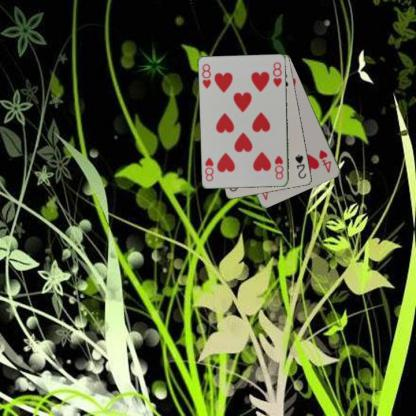2s: (292, 152, 308, 180)
4h: (316, 147, 332, 174)
8h: (199, 61, 213, 90), (272, 153, 285, 181)
